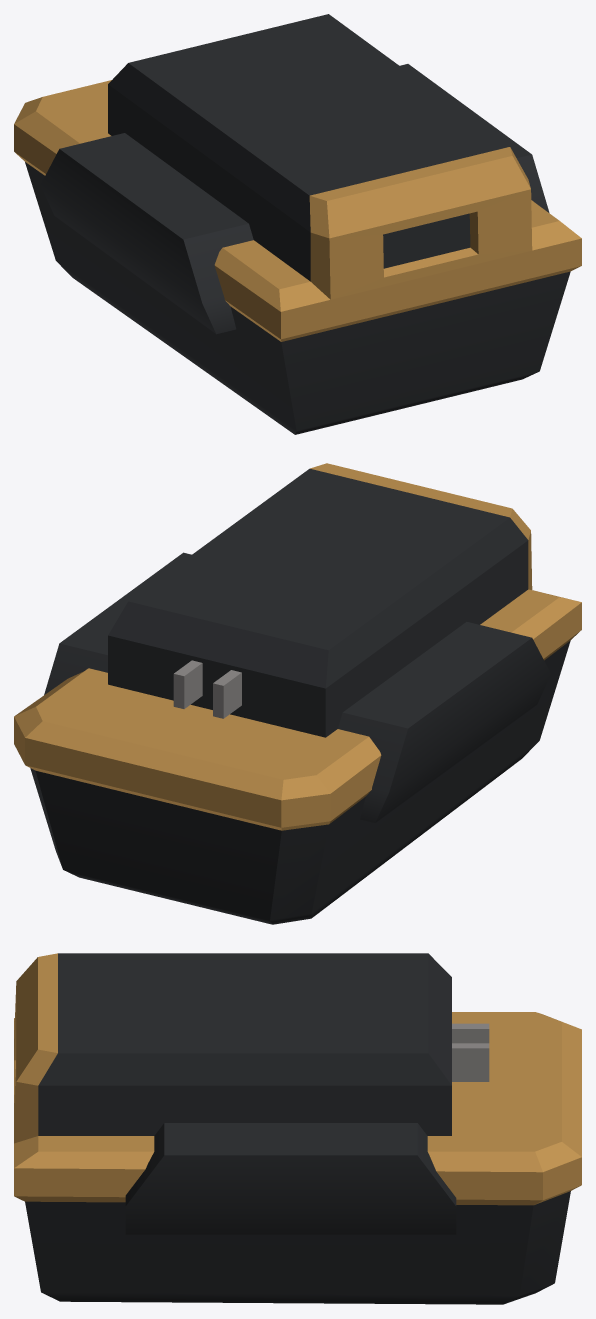
Rendered from SM_Tool_Battery_02.fbx.
3 views of the same model, one above another, from view 1: azimuth 30°, elevation 25°; view 2: azimuth 150°, elevation 25°; view 3: azimuth 270°, elevation 25° (orthographic). The views are drawn at different scales.
Parts seen in each view (by area): view 1: SM_Tool_Battery_02; view 2: SM_Tool_Battery_02; view 3: SM_Tool_Battery_02.
Part boxes in pixels (left/top/right/bottom): SM_Tool_Battery_02: left=14, top=14, right=581, bottom=434; SM_Tool_Battery_02: left=14, top=463, right=581, bottom=924; SM_Tool_Battery_02: left=14, top=953, right=581, bottom=1304.
Size of the model in its own units: 12.52 by 8.12 by 17.29.
